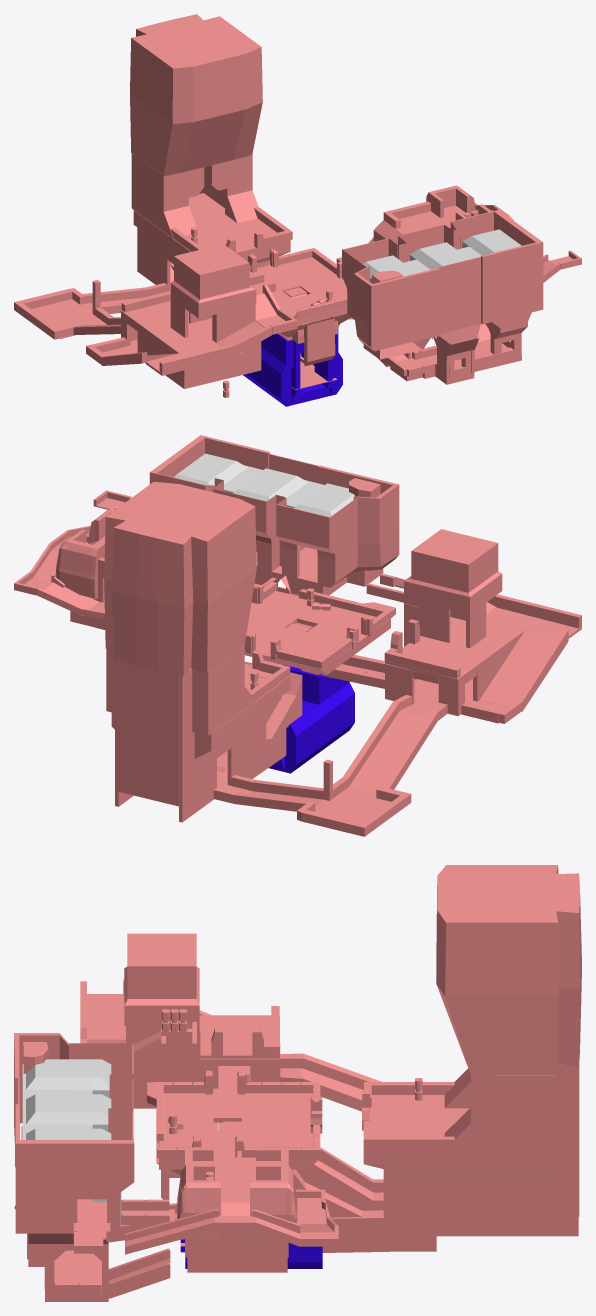
Rendered from LockoutWIP.fbx.
The picture shows the model from 3 angles, top to bottom: view 1: azimuth 30°, elevation 25°; view 2: azimuth 150°, elevation 25°; view 3: azimuth 270°, elevation 25°; orthographic projection. The views are drawn at different scales.
Parts seen in each view (by area): view 1: Toplibrary001, Bridge.129, Edge.249, Bridge.100, Clusters:004.001, Edge.193, Plane, Bridge.128, Edge.203, Bridge.106, Box018, Plane.003 (+17 smaller); view 2: Bridge.129, Toplibrary001, Edge.248, Edge.193, Bridge.100, Plane, Edge.246, Box018, Clusters:004.001, Bridge.106, Bridge.094, Edge.249 (+17 smaller); view 3: Bridge.129, Edge.245, Toplibrary001, Plane, Edge.249, Box018, Bridge.100, Bridge.128, Edge.203, Bridge.106, Box012, Edge.257 (+27 smaller).
Boxes of the visible parts, x1,y1,x2,y2 form: Toplibrary001: (342, 209, 543, 378); Bridge.129: (130, 14, 262, 175); Edge.249: (131, 153, 258, 238); Bridge.100: (170, 244, 256, 318); Clusters:004.001: (243, 328, 342, 406); Edge.193: (14, 280, 167, 339); Plane: (249, 257, 347, 325); Bridge.128: (133, 193, 276, 255); Edge.203: (121, 305, 261, 388); Bridge.106: (120, 301, 242, 375); Box018: (362, 229, 521, 283); Plane.003: (278, 313, 350, 366); Bridge.129: (104, 481, 256, 676); Toplibrary001: (149, 435, 399, 592); Edge.248: (118, 659, 179, 806); Edge.193: (213, 695, 447, 836); Bridge.100: (404, 529, 502, 614); Plane: (244, 591, 390, 674); Edge.246: (179, 668, 264, 822); Box018: (174, 453, 354, 575); Clusters:004.001: (269, 664, 354, 773); Bridge.106: (385, 607, 581, 681); Bridge.094: (222, 704, 430, 822); Edge.249: (106, 645, 255, 735); Bridge.129: (436, 865, 581, 1075); Edge.245: (386, 1064, 578, 1236); Toplibrary001: (14, 1033, 134, 1233); Plane: (159, 1090, 319, 1169); Edge.249: (444, 1068, 555, 1149); Box018: (22, 1059, 121, 1223); Bridge.100: (124, 933, 199, 1031); Bridge.128: (386, 1095, 549, 1170); Edge.203: (126, 1023, 280, 1108); Bridge.106: (87, 994, 279, 1058); Box012: (187, 1188, 287, 1272); Edge.257: (292, 1147, 383, 1217).
Size of the model in its own units: 2740 by 1683 by 2394.
